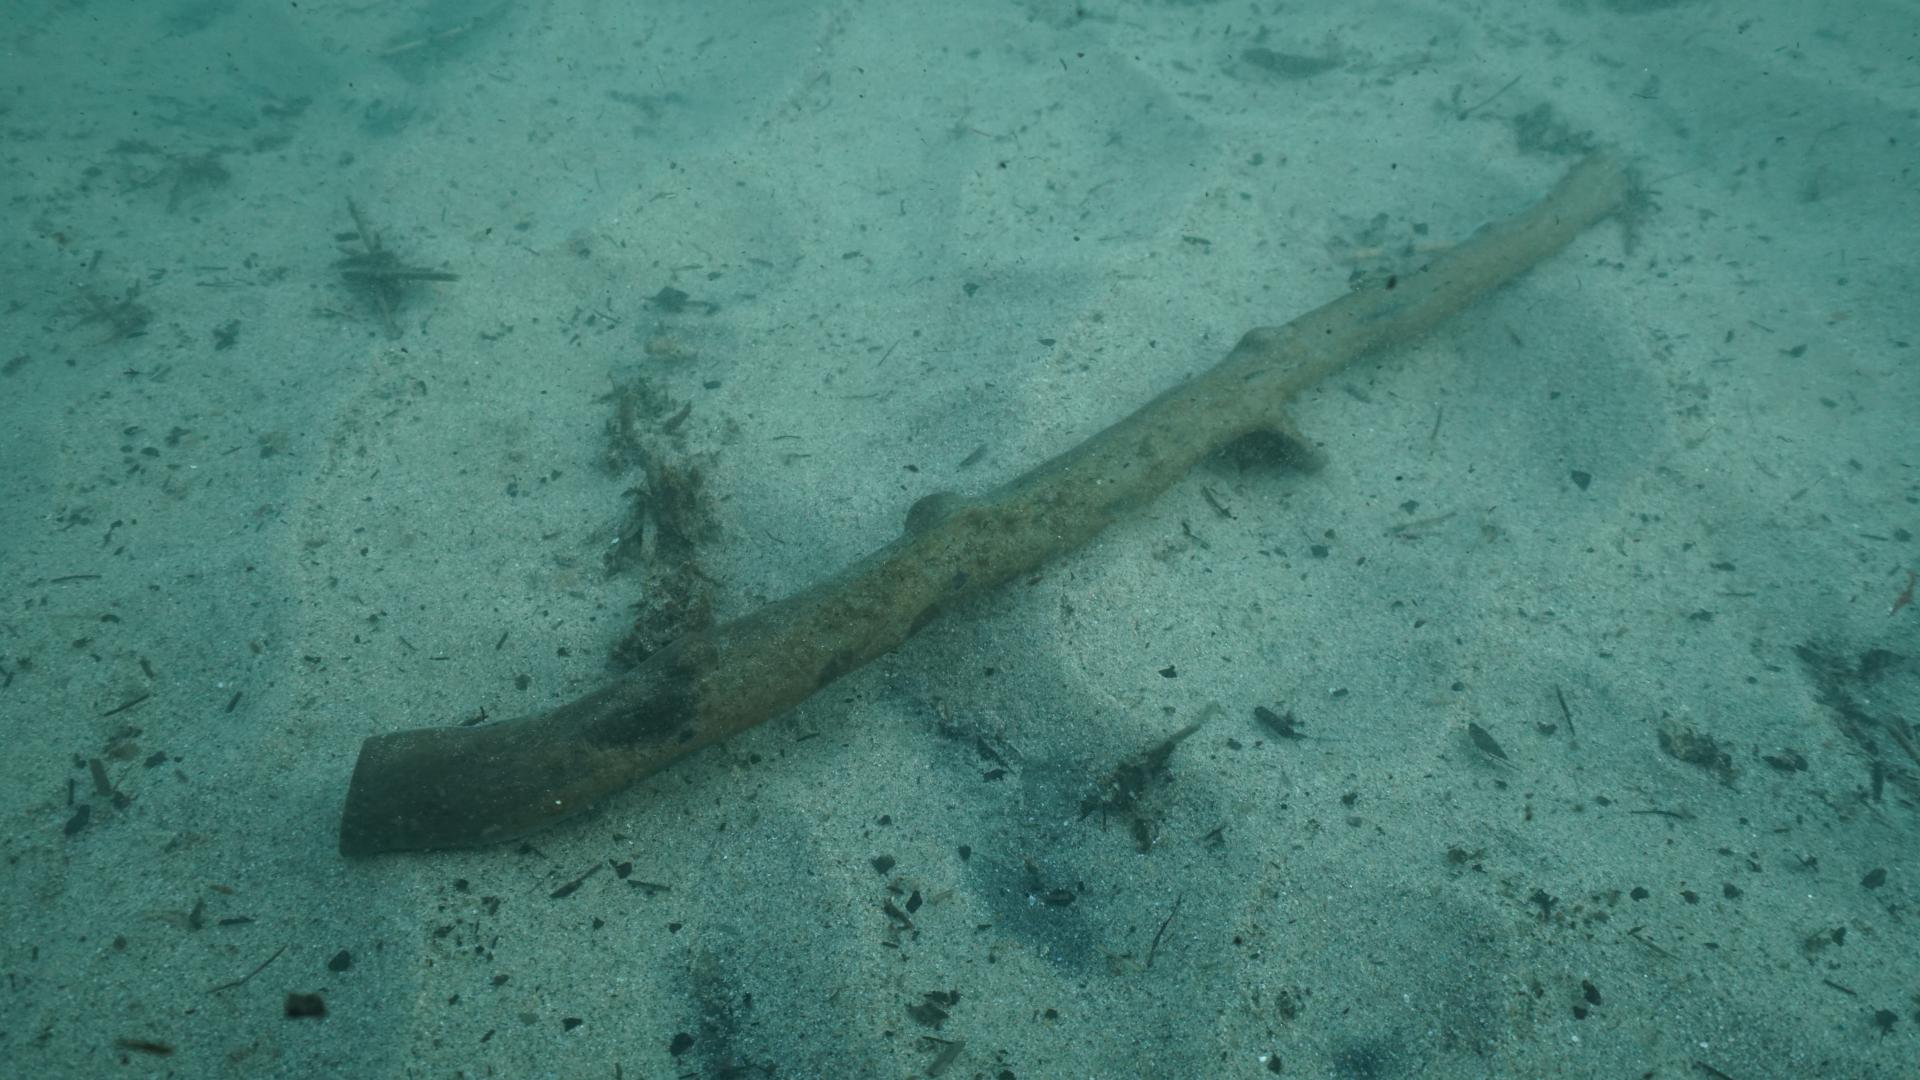wood: (336, 149, 1629, 855)
